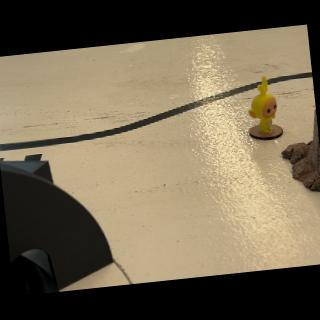teletubby: (248, 76, 276, 133)
